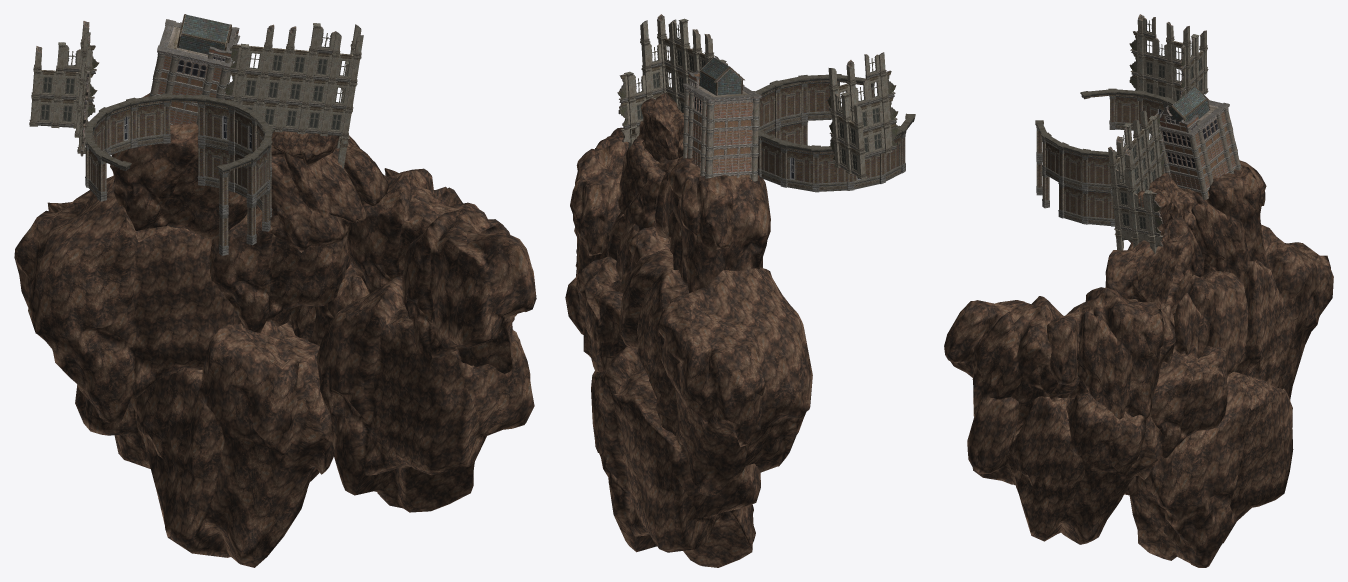
3 views of the same model, side by side, from view 1: azimuth 30°, elevation 25°; view 2: azimuth 150°, elevation 25°; view 3: azimuth 270°, elevation 25° (orthographic). The views are drawn at different scales.
Visible parts, largest first — view 1: LOD_1_Group_0_Sub_4__l09_01_rock1, LOD_1_Group_0_Sub_5__sm0712_builpartsC_A_Mat, LOD_1_Group_0_Sub_2__sm0711_builpartsB_A_Mat.001, LOD_1_Group_0_Sub_1__sm0711_builpartsB_B_Mat.001, LOD_1_Group_0_Sub_7__sm0712_builpartsC_B_Mat.001, LOD_1_Group_0_Sub_3__sm0710_builpartsA_A_Mat; view 2: LOD_1_Group_0_Sub_4__l09_01_rock1, LOD_1_Group_0_Sub_5__sm0712_builpartsC_A_Mat, LOD_1_Group_0_Sub_2__sm0711_builpartsB_A_Mat.001, LOD_1_Group_0_Sub_3__sm0710_builpartsA_A_Mat, LOD_1_Group_0_Sub_1__sm0711_builpartsB_B_Mat.001, LOD_1_Group_0_Sub_7__sm0712_builpartsC_B_Mat.001; view 3: LOD_1_Group_0_Sub_4__l09_01_rock1, LOD_1_Group_0_Sub_5__sm0712_builpartsC_A_Mat, LOD_1_Group_0_Sub_2__sm0711_builpartsB_A_Mat.001, LOD_1_Group_0_Sub_3__sm0710_builpartsA_A_Mat, LOD_1_Group_0_Sub_7__sm0712_builpartsC_B_Mat.001, LOD_1_Group_0_Sub_1__sm0711_builpartsB_B_Mat.001.
Part boxes in pixels (x1,y1,x2,y2): LOD_1_Group_0_Sub_4__l09_01_rock1: (14, 93, 536, 567); LOD_1_Group_0_Sub_5__sm0712_builpartsC_A_Mat: (29, 21, 363, 168); LOD_1_Group_0_Sub_2__sm0711_builpartsB_A_Mat.001: (85, 100, 271, 255); LOD_1_Group_0_Sub_1__sm0711_builpartsB_B_Mat.001: (85, 93, 273, 249); LOD_1_Group_0_Sub_7__sm0712_builpartsC_B_Mat.001: (36, 14, 363, 156); LOD_1_Group_0_Sub_3__sm0710_builpartsA_A_Mat: (149, 19, 240, 125); LOD_1_Group_0_Sub_4__l09_01_rock1: (565, 93, 812, 567); LOD_1_Group_0_Sub_5__sm0712_builpartsC_A_Mat: (618, 17, 899, 179); LOD_1_Group_0_Sub_2__sm0711_builpartsB_A_Mat.001: (757, 80, 905, 192); LOD_1_Group_0_Sub_3__sm0710_builpartsA_A_Mat: (682, 56, 761, 181); LOD_1_Group_0_Sub_1__sm0711_builpartsB_B_Mat.001: (754, 74, 915, 191); LOD_1_Group_0_Sub_7__sm0712_builpartsC_B_Mat.001: (617, 14, 898, 175); LOD_1_Group_0_Sub_4__l09_01_rock1: (944, 160, 1333, 567); LOD_1_Group_0_Sub_5__sm0712_builpartsC_A_Mat: (1108, 17, 1208, 254); LOD_1_Group_0_Sub_2__sm0711_builpartsB_A_Mat.001: (1036, 94, 1170, 226); LOD_1_Group_0_Sub_3__sm0710_builpartsA_A_Mat: (1158, 100, 1241, 199); LOD_1_Group_0_Sub_7__sm0712_builpartsC_B_Mat.001: (1108, 14, 1209, 247); LOD_1_Group_0_Sub_1__sm0711_builpartsB_B_Mat.001: (1035, 88, 1175, 225).
Size of the model in its own units: 5819 by 8384 by 6255.
